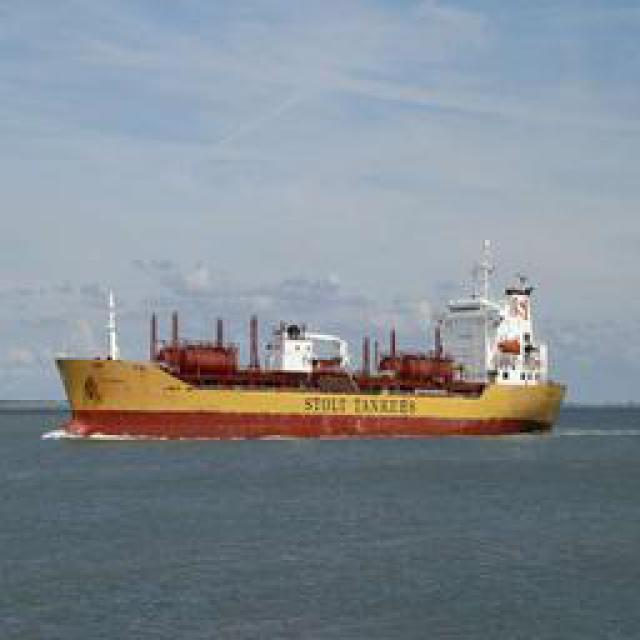Ship: (48, 272, 563, 445)
